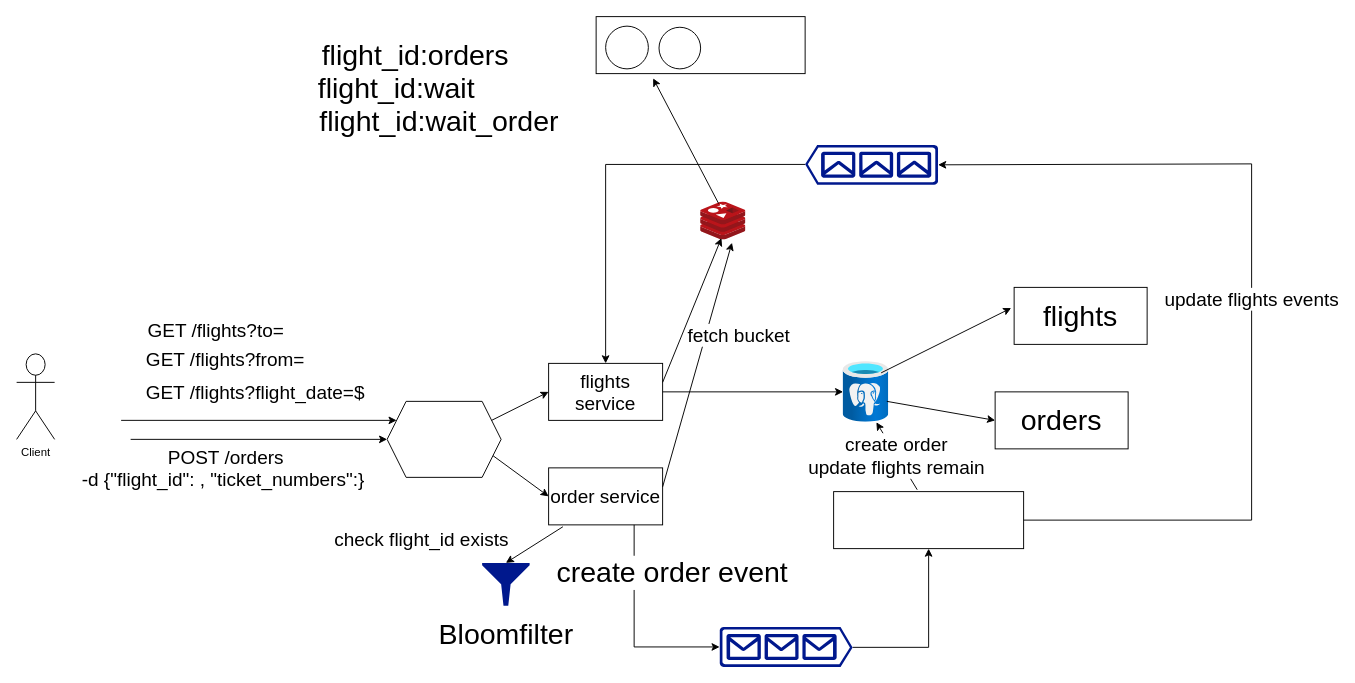
Image size: 1355x683. Some labels were removed from this diagram. The shapes that lost their labels are listed below. From the top down, each one's centre as x and y in pixels, then its label:
(x=443, y=438): api server
(x=928, y=520): background service
